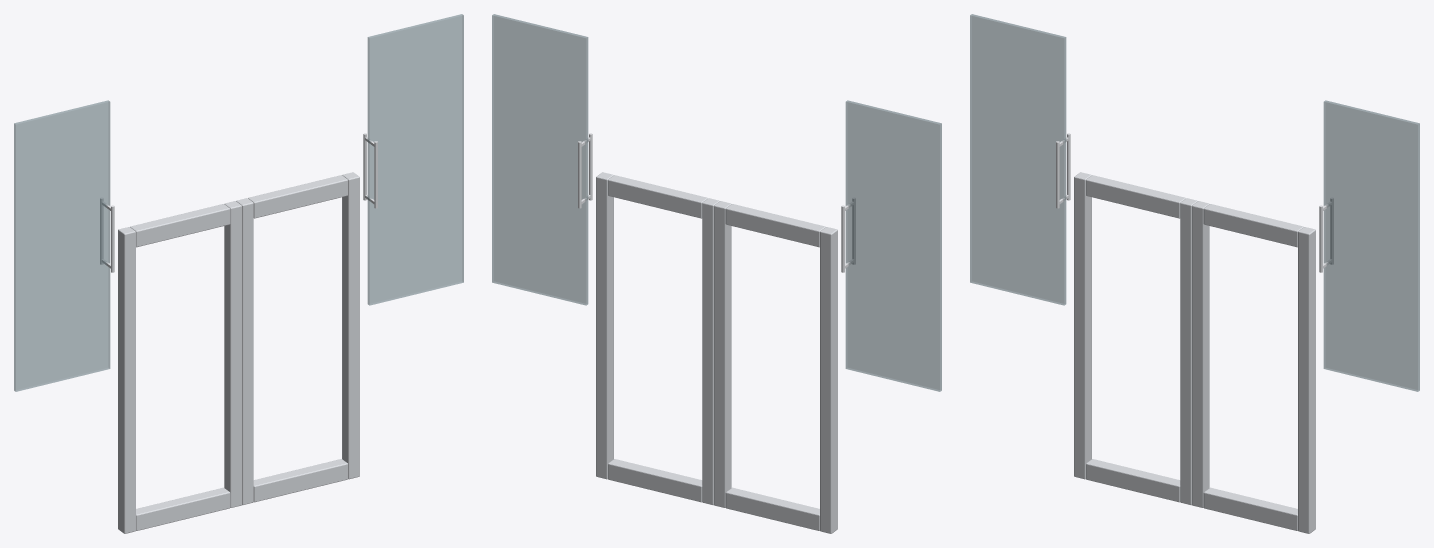
The model's file is toko_pintu_kaca.fbx.
3 renders of one model, left to right at view 1: azimuth 30°, elevation 25°; view 2: azimuth 150°, elevation 25°; view 3: azimuth 330°, elevation 25°, orthographic.
Visible parts, largest first — view 1: KacaPintuKiri, KacaPintuKanan, DaunKiri, DaunKanan, GagangKanan, GagangKiri; view 2: KacaPintuKiri, KacaPintuKanan, DaunKiri, DaunKanan, GagangKanan, GagangKiri; view 3: KacaPintuKanan, KacaPintuKiri, DaunKanan, DaunKiri, GagangKiri, GagangKanan.
Part boxes in pixels (left/top/right/bottom): KacaPintuKiri: left=14, top=100, right=110, bottom=391; KacaPintuKanan: left=367, top=14, right=463, bottom=305; DaunKiri: left=118, top=201, right=241, bottom=533; DaunKanan: left=236, top=172, right=359, bottom=505; GagangKanan: left=363, top=133, right=377, bottom=208; GagangKiri: left=100, top=197, right=114, bottom=272; KacaPintuKiri: left=845, top=100, right=941, bottom=391; KacaPintuKanan: left=492, top=14, right=588, bottom=305; DaunKiri: left=714, top=201, right=837, bottom=533; DaunKanan: left=596, top=172, right=719, bottom=505; GagangKanan: left=578, top=133, right=592, bottom=208; GagangKiri: left=841, top=197, right=855, bottom=272; KacaPintuKanan: left=1323, top=100, right=1419, bottom=391; KacaPintuKiri: left=970, top=14, right=1066, bottom=305; DaunKanan: left=1192, top=201, right=1315, bottom=533; DaunKiri: left=1074, top=172, right=1197, bottom=505; GagangKiri: left=1056, top=133, right=1070, bottom=208; GagangKanan: left=1319, top=197, right=1333, bottom=272.
Bounding box in the file's own units: 1140 × 1055 × 56.
6 materials, 6 textured.
